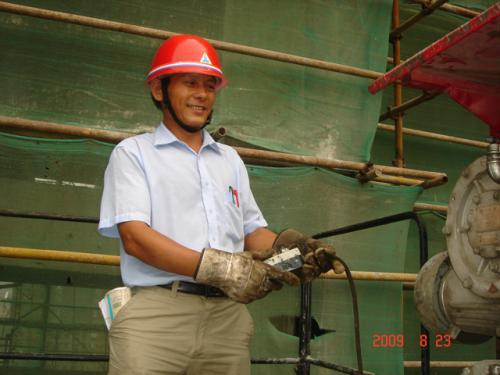helmet: (130, 29, 240, 141)
